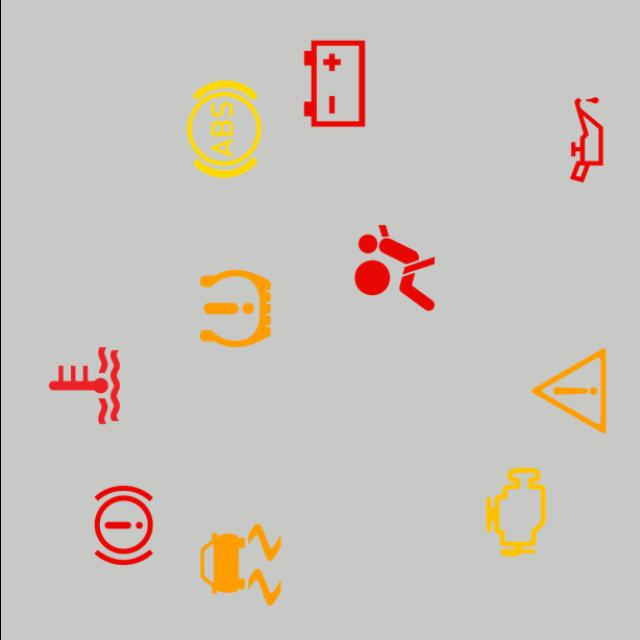Anti Lock Braking System: (170, 76, 276, 182)
Braking System Issue: (70, 472, 176, 579)
Charging System Issue: (280, 30, 386, 136)
Check Engine: (462, 458, 568, 566)
Electronic Stability Problem -ESP-: (186, 512, 292, 618)
Engine Overheating Warning Light: (30, 332, 136, 438)
Low Engine Oil Warning Light: (533, 86, 639, 192)
Low Tire Pressure Warning Light: (182, 256, 288, 362)
Master warning light: (515, 338, 621, 444)
SRS-Airbag: (341, 215, 447, 321)
